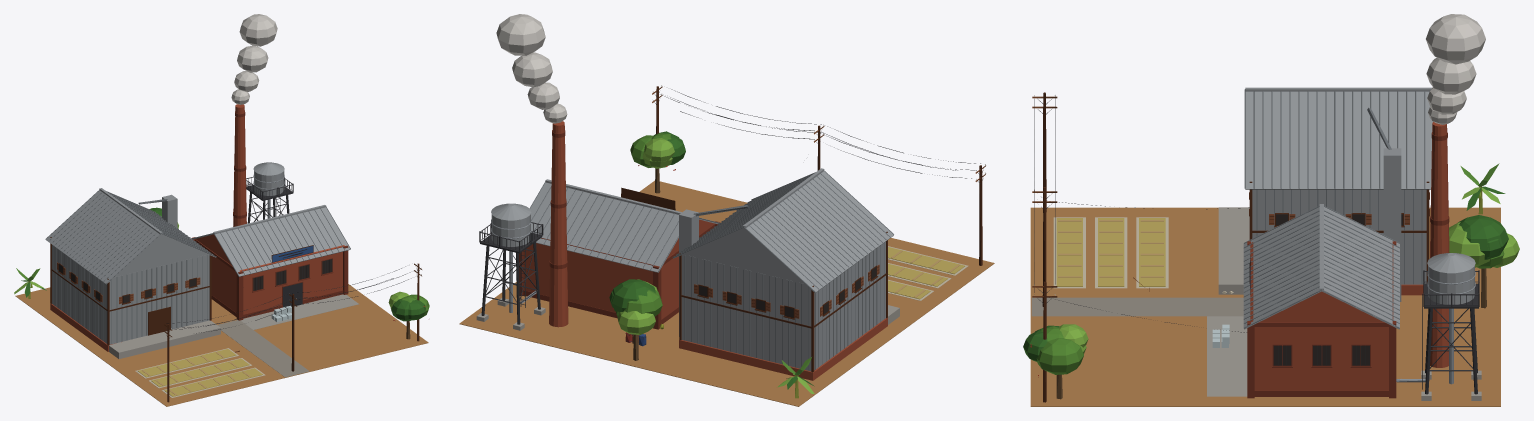
The model's file is factory_4.glb.
3 renders of one model, left to right at view 1: azimuth 30°, elevation 25°; view 2: azimuth 150°, elevation 25°; view 3: azimuth 270°, elevation 25°, orthographic. The views are drawn at different scales.
Visible parts, largest first — view 1: body, windows; view 2: body, windows; view 3: body, windows.
Boxes of the visible parts, box(x1,y1,x2,y2) form: body: box(14, 14, 429, 406); windows: box(59, 259, 332, 303); body: box(459, 14, 994, 406); windows: box(699, 267, 876, 317); body: box(1023, 14, 1519, 406); windows: box(1273, 214, 1402, 365).
Bounding box in the file's own units: 33.65 × 27.34 × 33.72.
